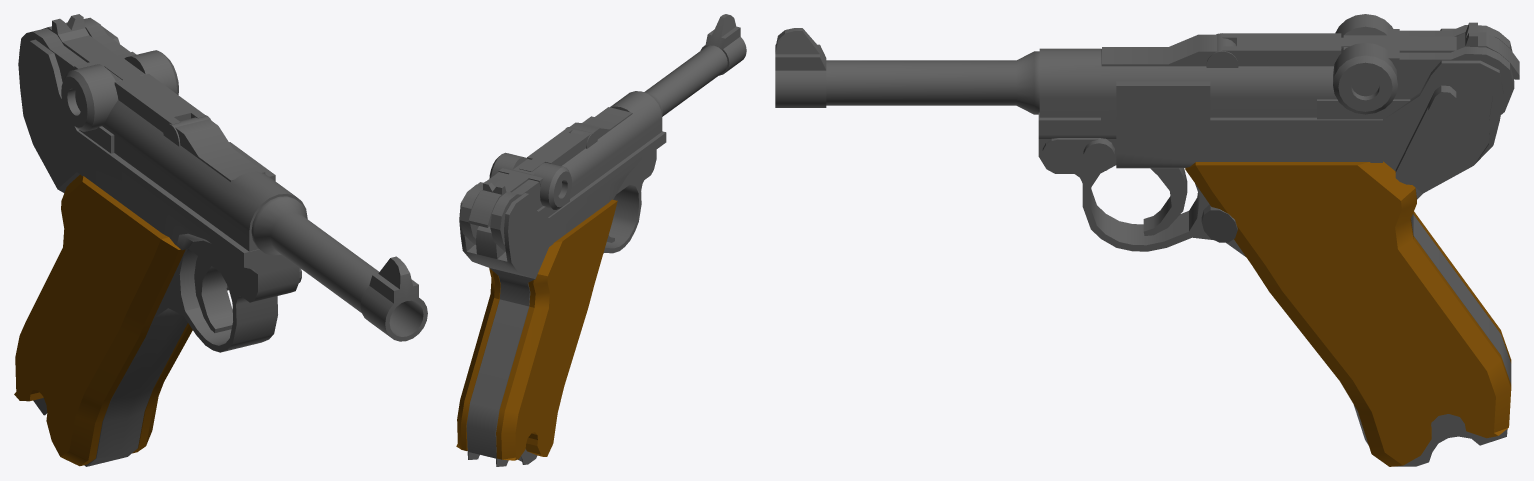
The model's file is Luger.fbx.
3 views of the same model, side by side, from view 1: azimuth 30°, elevation 25°; view 2: azimuth 150°, elevation 25°; view 3: azimuth 270°, elevation 25° (orthographic). The views are drawn at different scales.
Parts seen in each view (by area): view 1: pCube34, polySurface11, pCube44, polySurface12, pCube35, pCube36, pCube41, polySurface13, pCube40, pCylinder13; view 2: pCube34, polySurface11, pCube44, polySurface12, polySurface13, pCube35, pCube36; view 3: pCube34, polySurface11, pCube44, polySurface12, pCube35, pCube36, pCube47, polySurface13, pCylinder15, pCube41, pCube40, pCylinder14.
Part boxes in pixels (left/top/right/bottom): pCube34: left=14, top=174, right=192, bottom=466; polySurface11: left=18, top=26, right=299, bottom=466; pCube44: left=19, top=17, right=427, bottom=341; polySurface12: left=61, top=50, right=178, bottom=131; pCube35: left=104, top=62, right=206, bottom=132; pCube36: left=175, top=119, right=265, bottom=181; pCube41: left=194, top=256, right=232, bottom=332; polySurface13: left=42, top=14, right=136, bottom=69; pCube40: left=79, top=126, right=114, bottom=153; pCylinder13: left=163, top=115, right=211, bottom=146; pCube34: left=456, top=199, right=617, bottom=460; polySurface11: left=459, top=116, right=666, bottom=466; pCube44: left=460, top=14, right=746, bottom=251; polySurface12: left=489, top=152, right=571, bottom=209; polySurface13: left=468, top=168, right=543, bottom=227; pCube35: left=519, top=127, right=591, bottom=171; pCube36: left=569, top=107, right=632, bottom=139; pCube34: left=1185, top=161, right=1511, bottom=466; polySurface11: left=1038, top=28, right=1511, bottom=466; pCube44: left=775, top=25, right=1514, bottom=120; polySurface12: left=1333, top=14, right=1397, bottom=114; pCube35: left=1222, top=33, right=1380, bottom=66; pCube36: left=1102, top=34, right=1216, bottom=66; pCube47: left=1395, top=85, right=1456, bottom=184; polySurface13: left=1388, top=22, right=1519, bottom=79; pCylinder15: left=1042, top=138, right=1114, bottom=172; pCube41: left=1143, top=168, right=1187, bottom=235; pCube40: left=1317, top=99, right=1410, bottom=119; pCylinder14: left=1201, top=204, right=1237, bottom=242.
Size of the model in its own units: 3.13 by 13.38 by 21.14.
